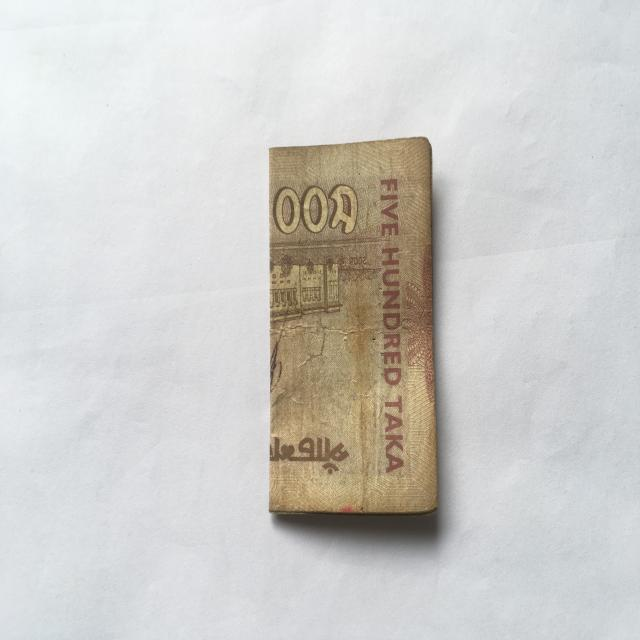Taka: (265, 133, 448, 539)
